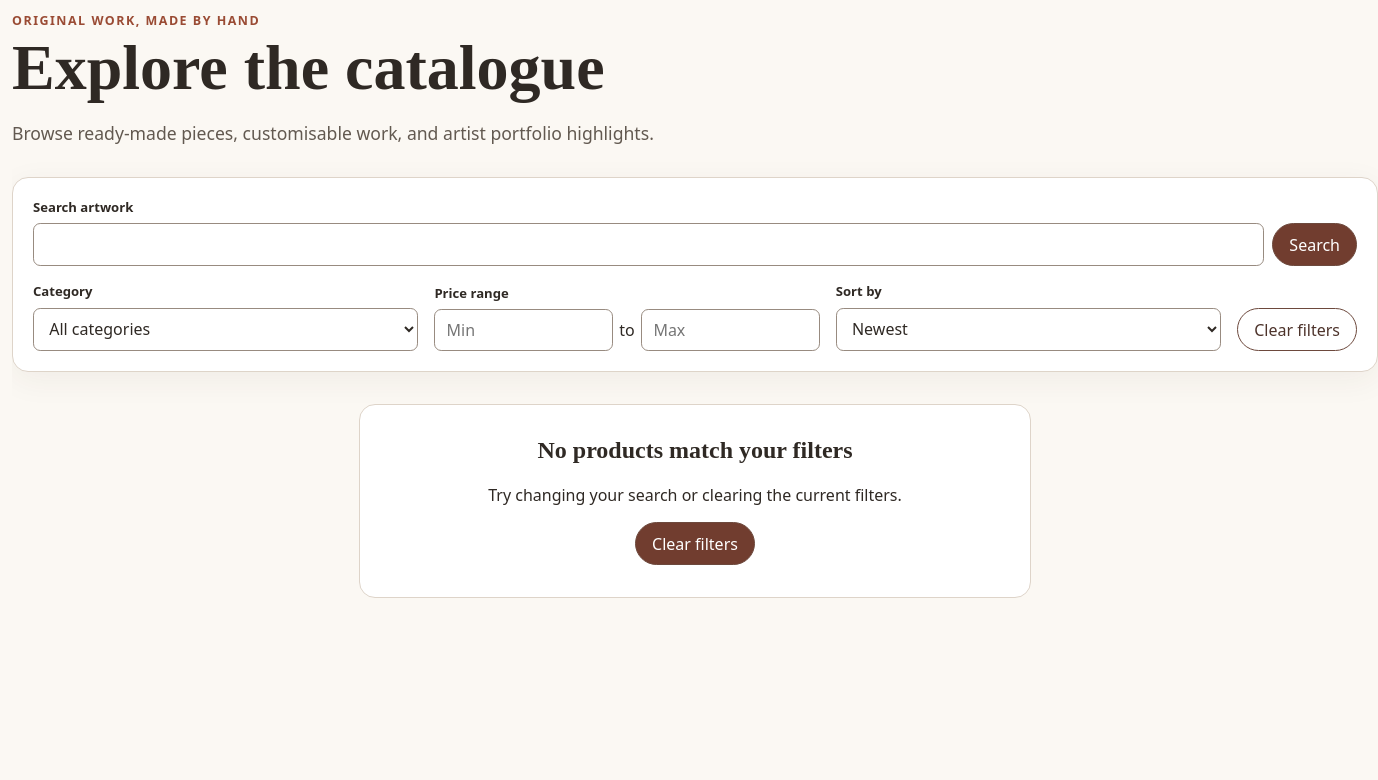
Test: catalogue search regression › clears an unsubmitted search without fetching or getting stuck loading
Check: the heading "No products match your filters" is shown, box [538,437,853,463]
In the search field labelled "Search artwork": (649, 245) [33,223,1264,266], type "draft"
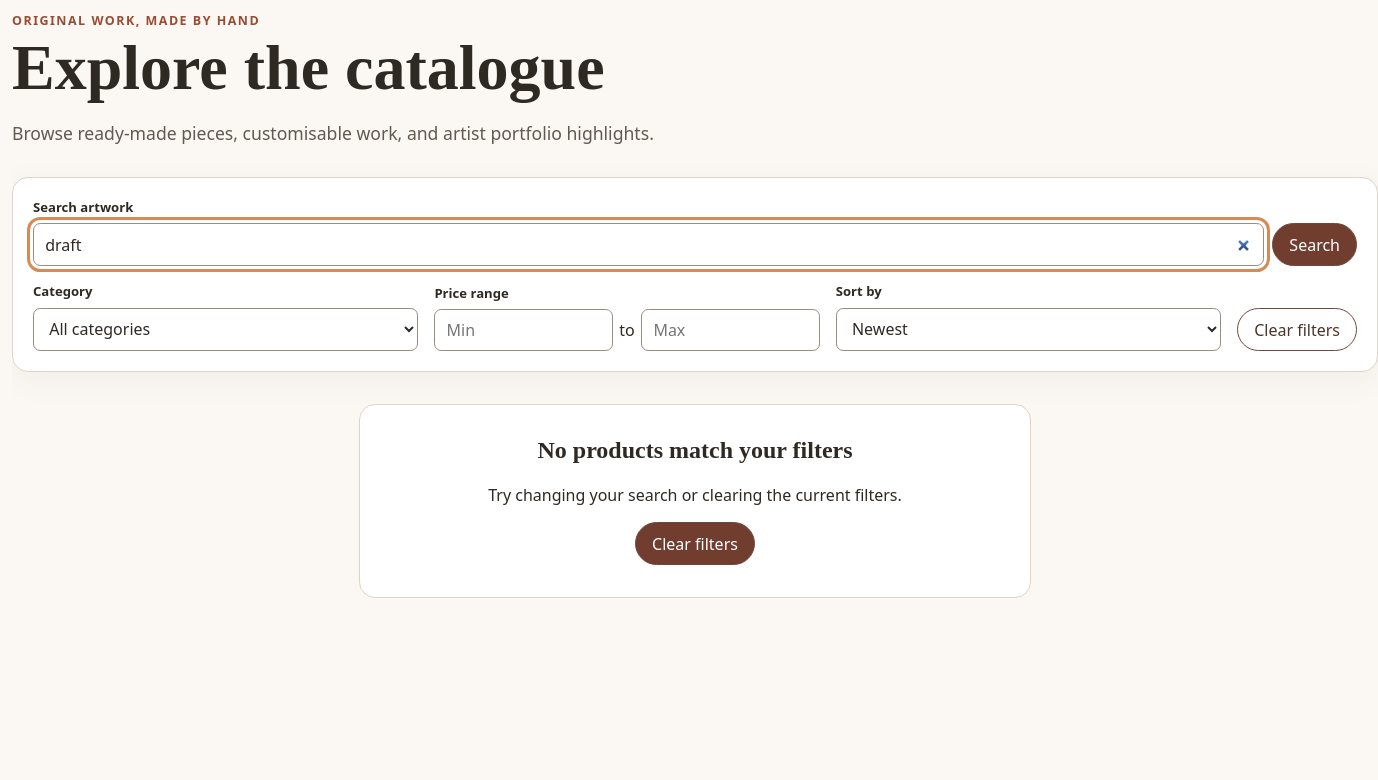
Click the 1st button "Clear filters": (1297, 330) [1237,308,1357,351]
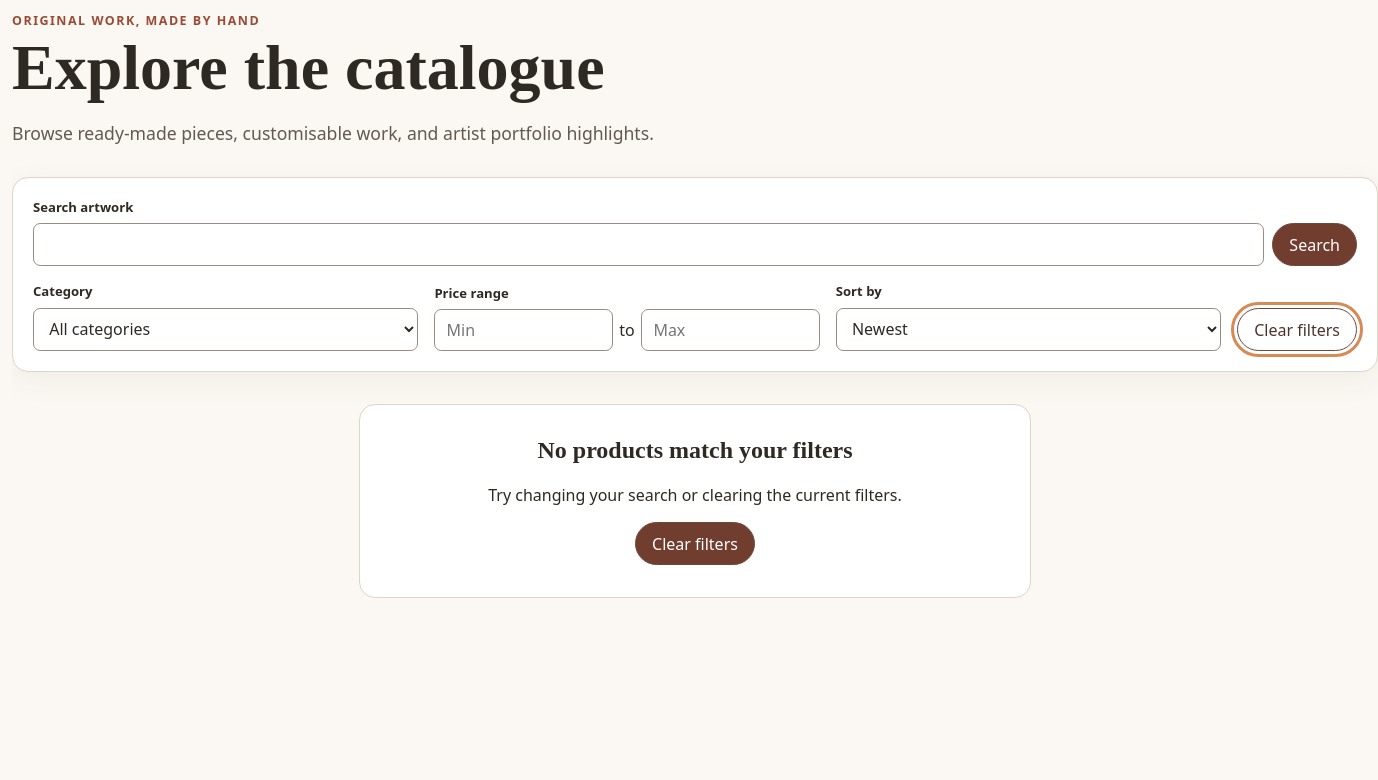
Check: the heading "No products match your filters" is shown, box [538,437,853,463]
Check: the search field labelled "Search artwork" is empty, box [33,223,1264,266]
